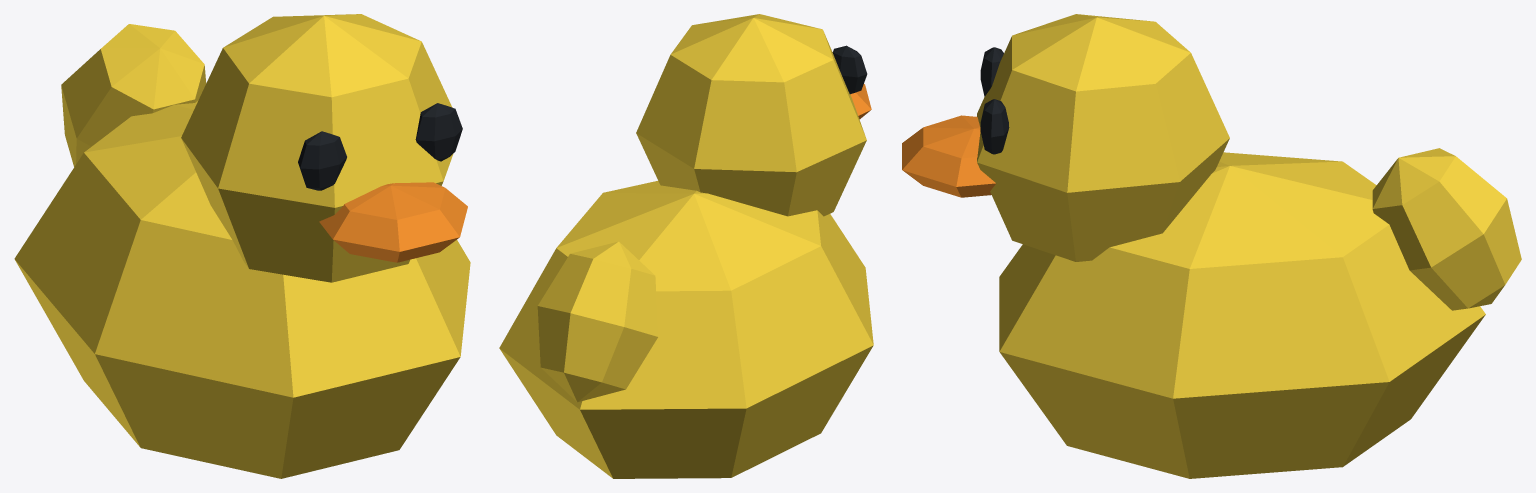
Rendered from rubber-duck-lod1.glb.
3 renders of one model, left to right at view 1: azimuth 30°, elevation 25°; view 2: azimuth 150°, elevation 25°; view 3: azimuth 270°, elevation 25°, orthographic. The views are drawn at different scales.
Visible parts, largest first — view 1: rubber-duck; view 2: rubber-duck; view 3: rubber-duck.
Boxes of the visible parts, <box> form: rubber-duck: <box>14,14,470,478</box>; rubber-duck: <box>499,14,873,478</box>; rubber-duck: <box>902,14,1521,478</box>.
Bounding box in the file's own units: 0.39 × 0.48 × 0.6053.
